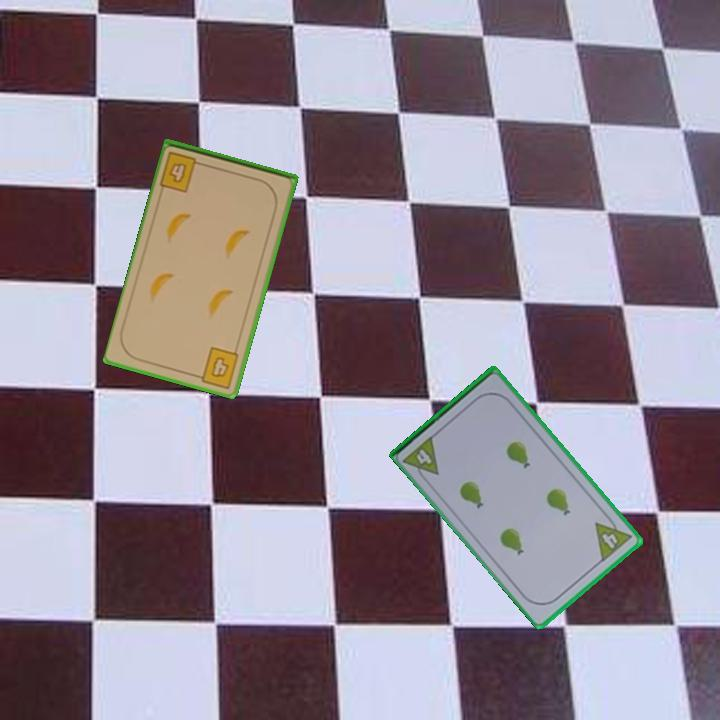4b: (192, 343, 242, 391), (157, 148, 208, 195)
4p: (591, 510, 635, 565), (400, 432, 442, 485)
